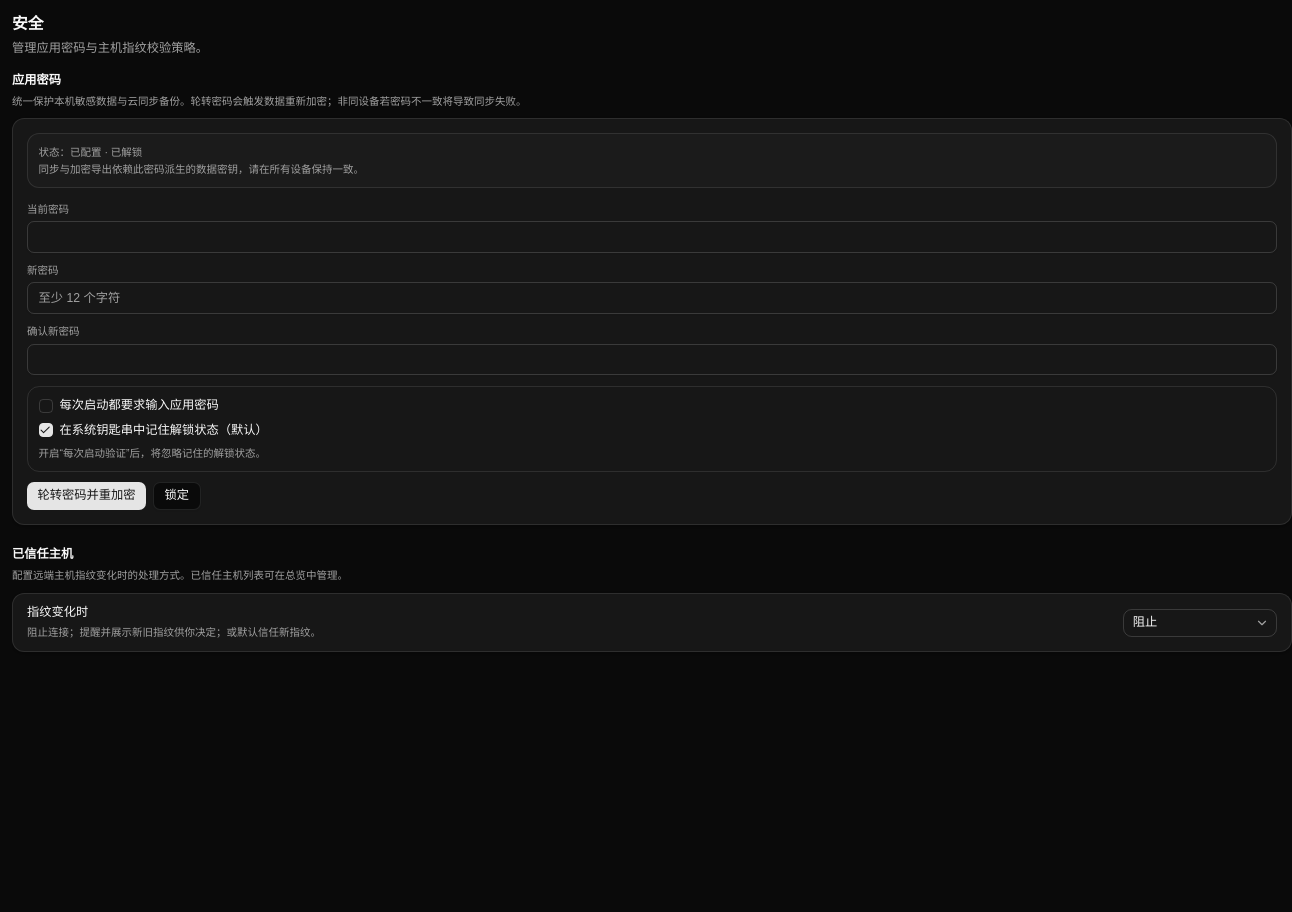
it: SecurityPanel › keeps persisted security preferences when saving a toggle fails
Click the checkbox named "每次启动都要求输入应用密码" next to "每次启动都要求输入应用密码": (46, 406) [38,399,52,413]
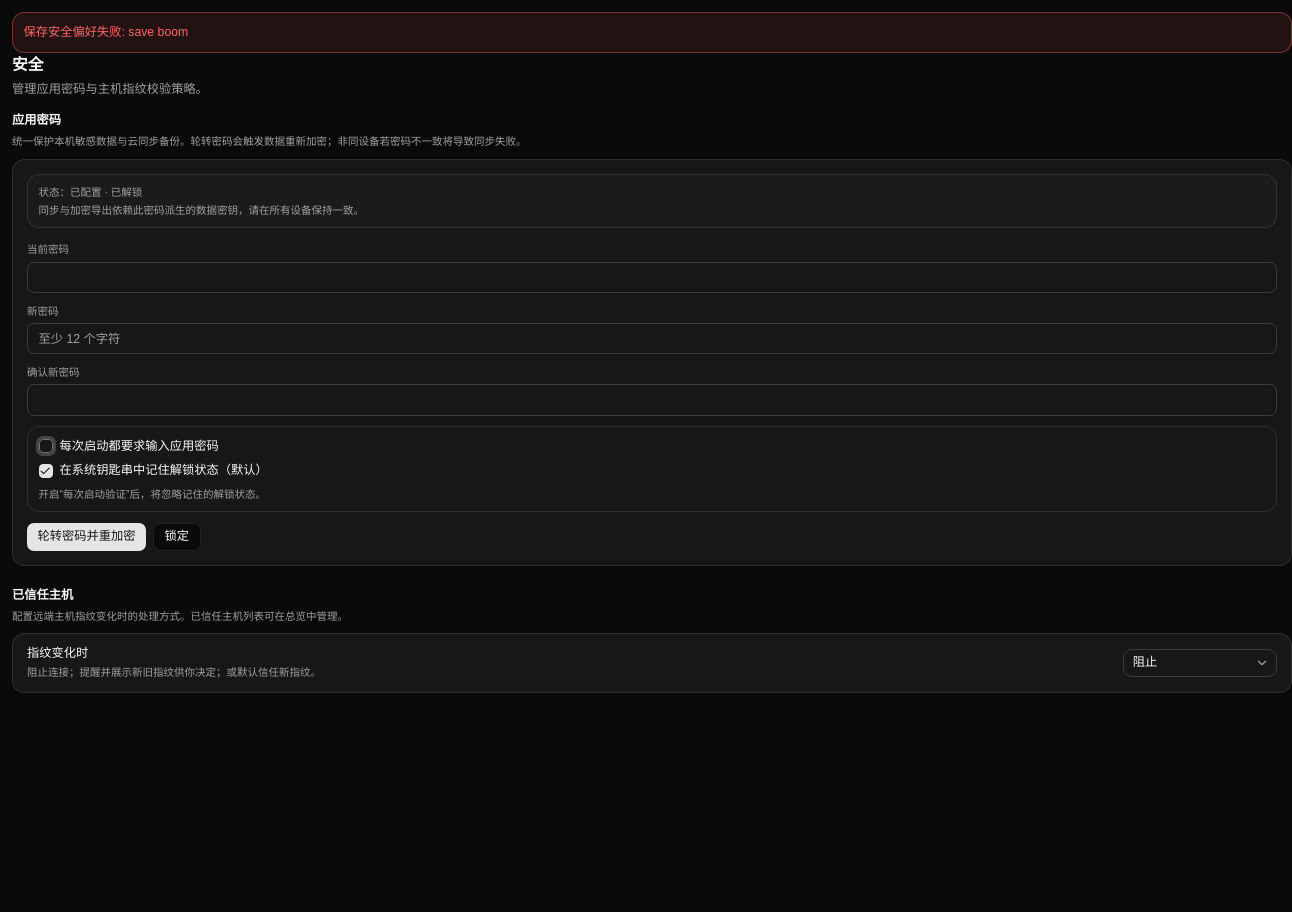
Expected: the checkbox named "每次启动都要求输入应用密码" next to "每次启动都要求输入应用密码" is not checked, [38,439,52,453]
Now the message reads "保存安全偏好失败: save boom", box [24,24,188,38]
